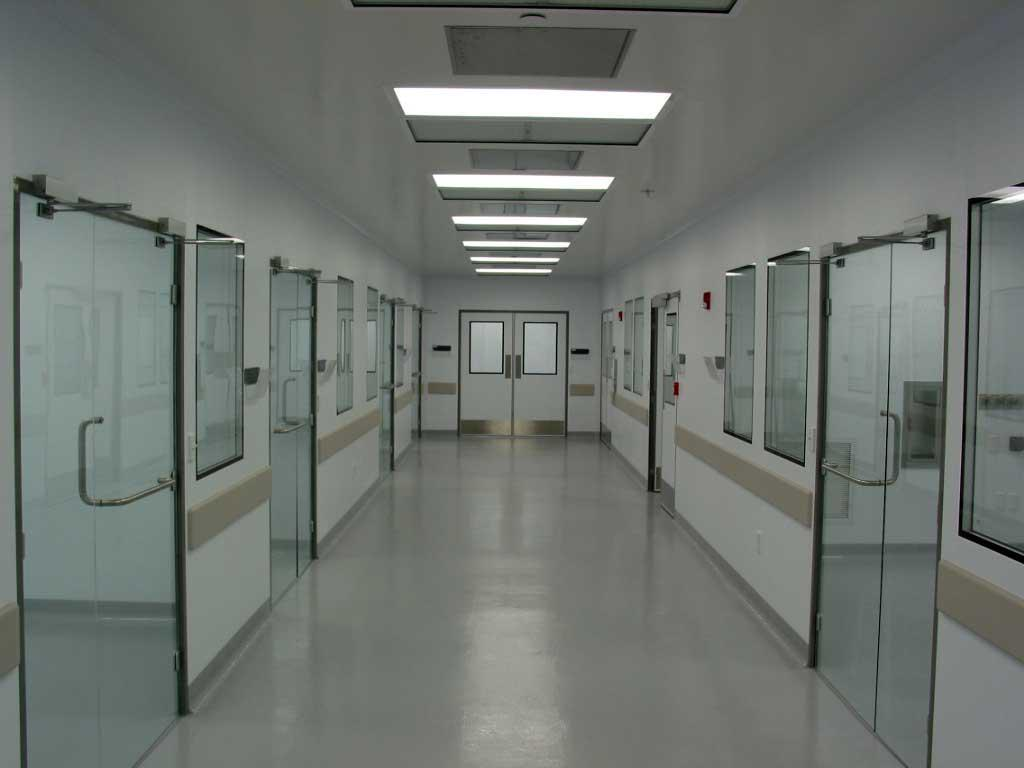Puerta: (21, 183, 184, 763), (821, 250, 932, 767), (267, 260, 319, 594), (463, 314, 565, 436)
Ventana: (759, 251, 812, 466), (197, 220, 242, 470), (721, 264, 762, 443)
